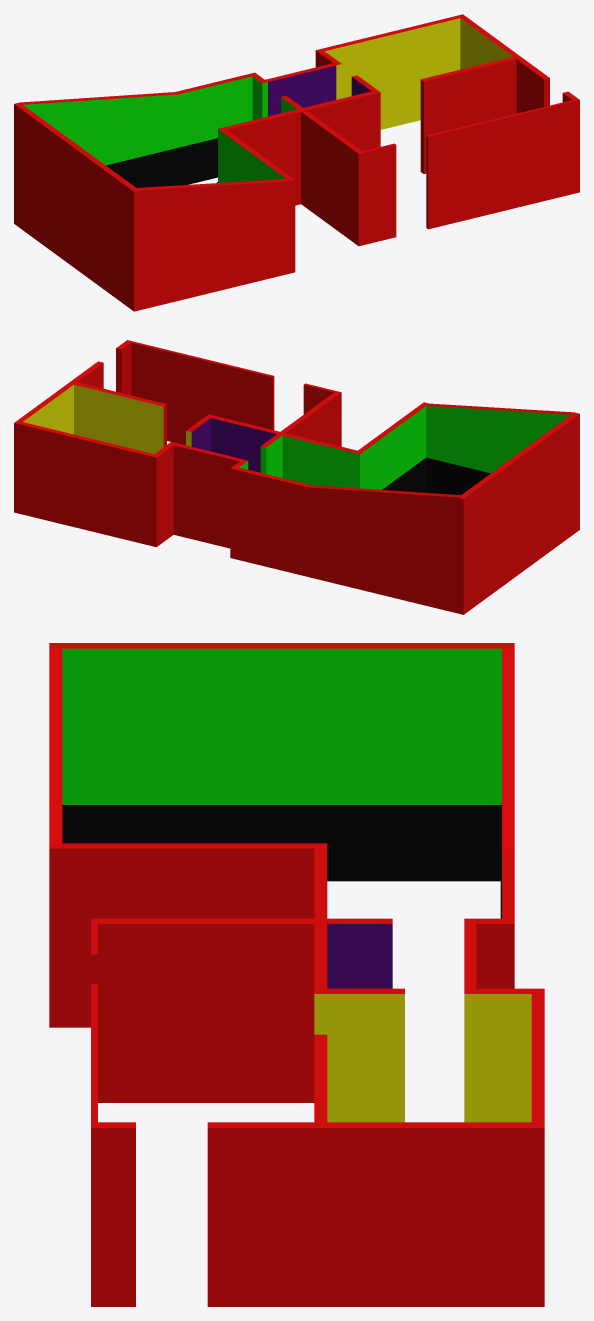
3 views of the same model, one above another, from view 1: azimuth 30°, elevation 25°; view 2: azimuth 150°, elevation 25°; view 3: azimuth 270°, elevation 25° (orthographic). The views are drawn at different scales.
Parts seen in each view (by area): view 1: polySurface15; view 2: polySurface15; view 3: polySurface15.
Boxes of the visible parts, left/top/right/bottom form: polySurface15: left=14, top=14, right=579, bottom=311; polySurface15: left=14, top=340, right=579, bottom=614; polySurface15: left=49, top=643, right=544, bottom=1306.
Bounding box in the file's own units: 1599 × 401 × 775.
